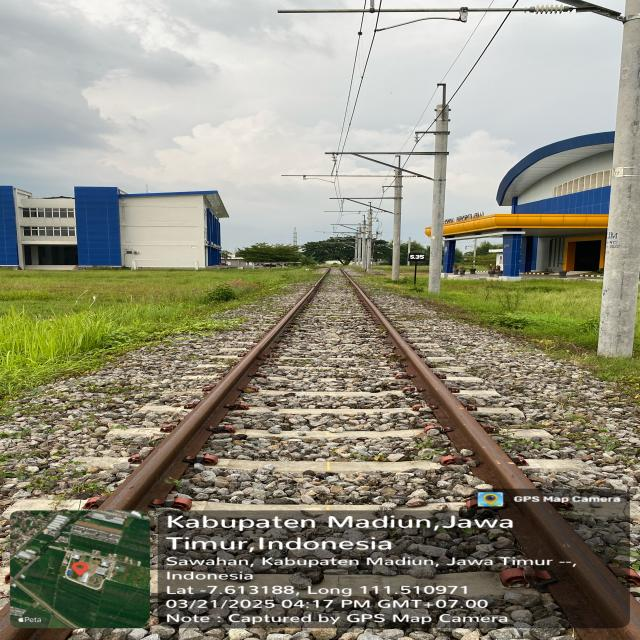rail-detection: (339, 270, 640, 640), (99, 270, 330, 511)
